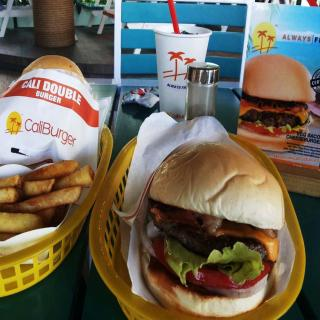French fries: (0, 156, 90, 231)
Hamburger: (139, 140, 284, 316), (237, 54, 315, 152)
